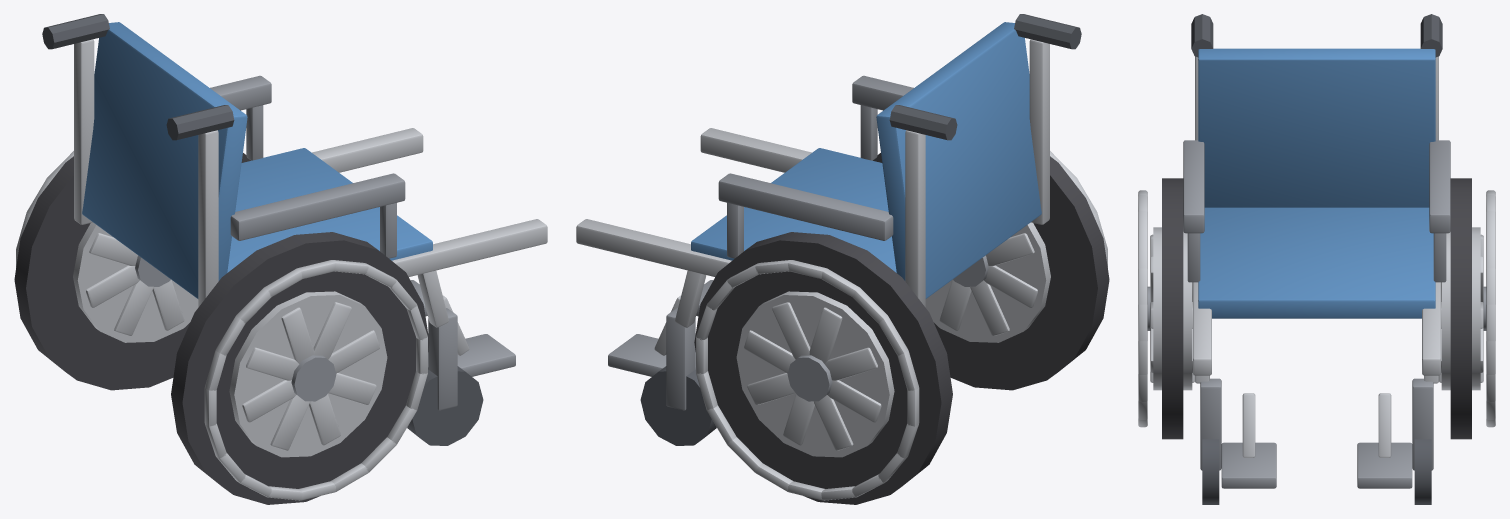
Rendered from th49_rollstuhl.glb.
3 views of the same model, side by side, from view 1: azimuth 30°, elevation 25°; view 2: azimuth 150°, elevation 25°; view 3: azimuth 270°, elevation 25° (orthographic). The views are drawn at different scales.
Parts seen in each view (by area): view 1: Cylinder, Cube.075, Cylinder.006, Cylinder.001, Cube.074, Cube.079, Cylinder.007, Cube.078, Cylinder.012, Cube.077, Cube.084, Cube.085 (+22 smaller); view 2: Cylinder.006, Cube.075, Cylinder, Cylinder.009, Cube.074, Cube.086, Cylinder.003, Cube.085, Cylinder.013, Cube.084, Cube.077, Cube.078 (+22 smaller); view 3: Cube.075, Cube.074, Cylinder, Cylinder.006, Cube.081, Cube.088, Cube.079, Cube.086, Cube.072, Cube.073, Cylinder.001, Cylinder.009 (+12 smaller).
Part boxes in pixels (bbox=[...]): Cylinder: bbox=[171, 232, 429, 504]; Cube.075: bbox=[82, 22, 247, 298]; Cylinder.006: bbox=[14, 153, 250, 390]; Cylinder.001: bbox=[229, 291, 387, 457]; Cube.074: bbox=[227, 148, 432, 272]; Cube.079: bbox=[230, 173, 405, 240]; Cylinder.007: bbox=[73, 222, 198, 342]; Cube.078: bbox=[392, 219, 547, 276]; Cylinder.012: bbox=[407, 366, 483, 445]; Cube.077: bbox=[198, 130, 218, 307]; Cube.084: bbox=[74, 39, 94, 224]; Cube.085: bbox=[312, 128, 423, 172]; Cylinder.006: bbox=[694, 232, 952, 504]; Cube.075: bbox=[876, 22, 1041, 298]; Cylinder: bbox=[873, 153, 1109, 390]; Cylinder.009: bbox=[736, 291, 894, 457]; Cube.074: bbox=[691, 148, 896, 272]; Cube.086: bbox=[718, 173, 893, 240]; Cylinder.003: bbox=[925, 222, 1050, 342]; Cube.085: bbox=[576, 219, 731, 276]; Cylinder.013: bbox=[640, 366, 716, 445]; Cube.084: bbox=[905, 130, 925, 307]; Cube.077: bbox=[1029, 39, 1049, 224]; Cube.078: bbox=[700, 128, 811, 172]; Cube.075: bbox=[1198, 48, 1435, 207]; Cube.074: bbox=[1198, 207, 1435, 318]; Cylinder: bbox=[1162, 178, 1183, 439]; Cylinder.006: bbox=[1450, 178, 1471, 439]; Cube.081: bbox=[1221, 442, 1276, 488]; Cube.088: bbox=[1357, 442, 1412, 488]; Cube.079: bbox=[1183, 140, 1204, 233]; Cube.086: bbox=[1429, 140, 1450, 233]; Cube.072: bbox=[1200, 378, 1221, 470]; Cube.073: bbox=[1412, 378, 1433, 470]; Cylinder.001: bbox=[1153, 227, 1161, 390]; Cylinder.009: bbox=[1472, 227, 1480, 390].
Size of the model in its own units: 0.96 by 0.946 by 0.842.
